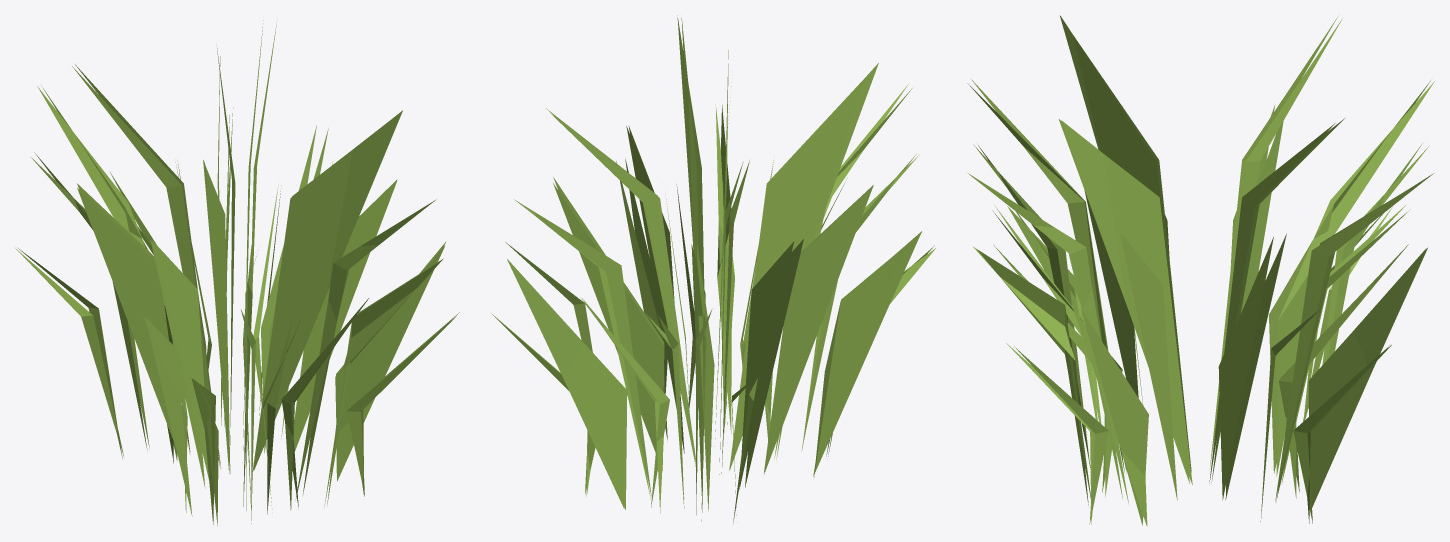
File: grass_two.fbx
3 renders of one model, left to right at view 1: azimuth 30°, elevation 25°; view 2: azimuth 150°, elevation 25°; view 3: azimuth 270°, elevation 25°, orthographic. The views are drawn at different scales.
Visible parts, largest first — view 1: grass_two; view 2: grass_two; view 3: grass_two.
Part boxes in pixels (x1=…): grass_two: x1=15, y1=20, x2=459, y2=525; grass_two: x1=490, y1=15, x2=935, y2=523; grass_two: x1=967, y1=15, x2=1434, y2=526.
Size of the model in its own units: 80.82 by 100 by 101.
